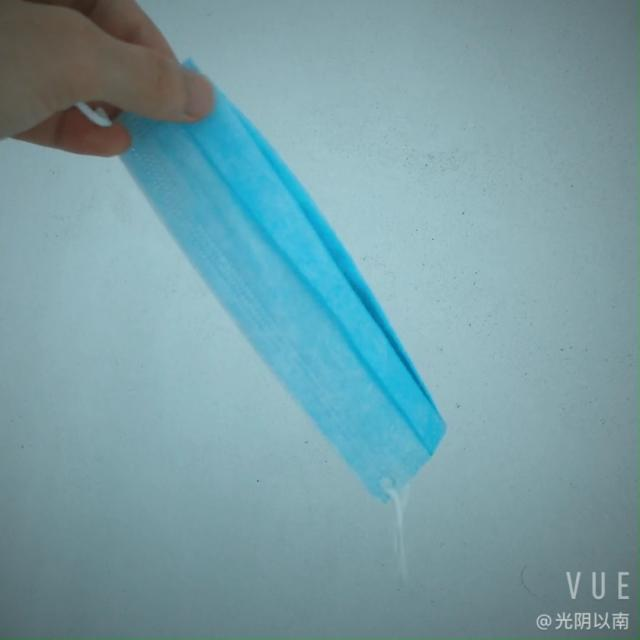non-organic waste: (86, 51, 467, 516)
